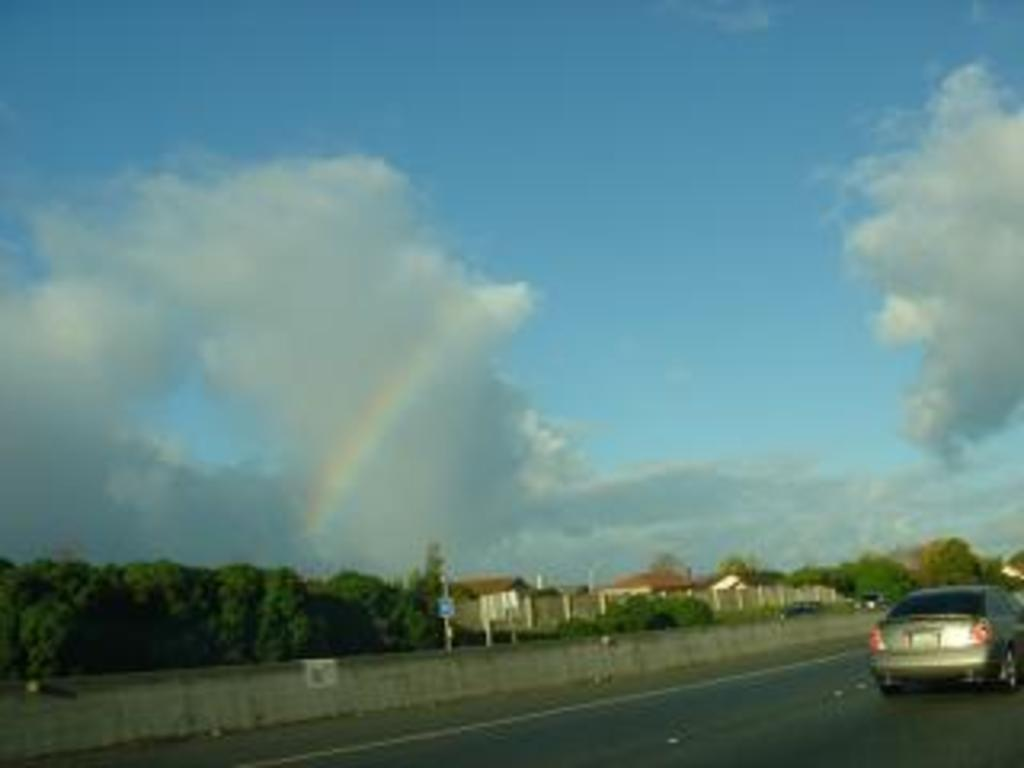Car: (867, 598, 1011, 697)
